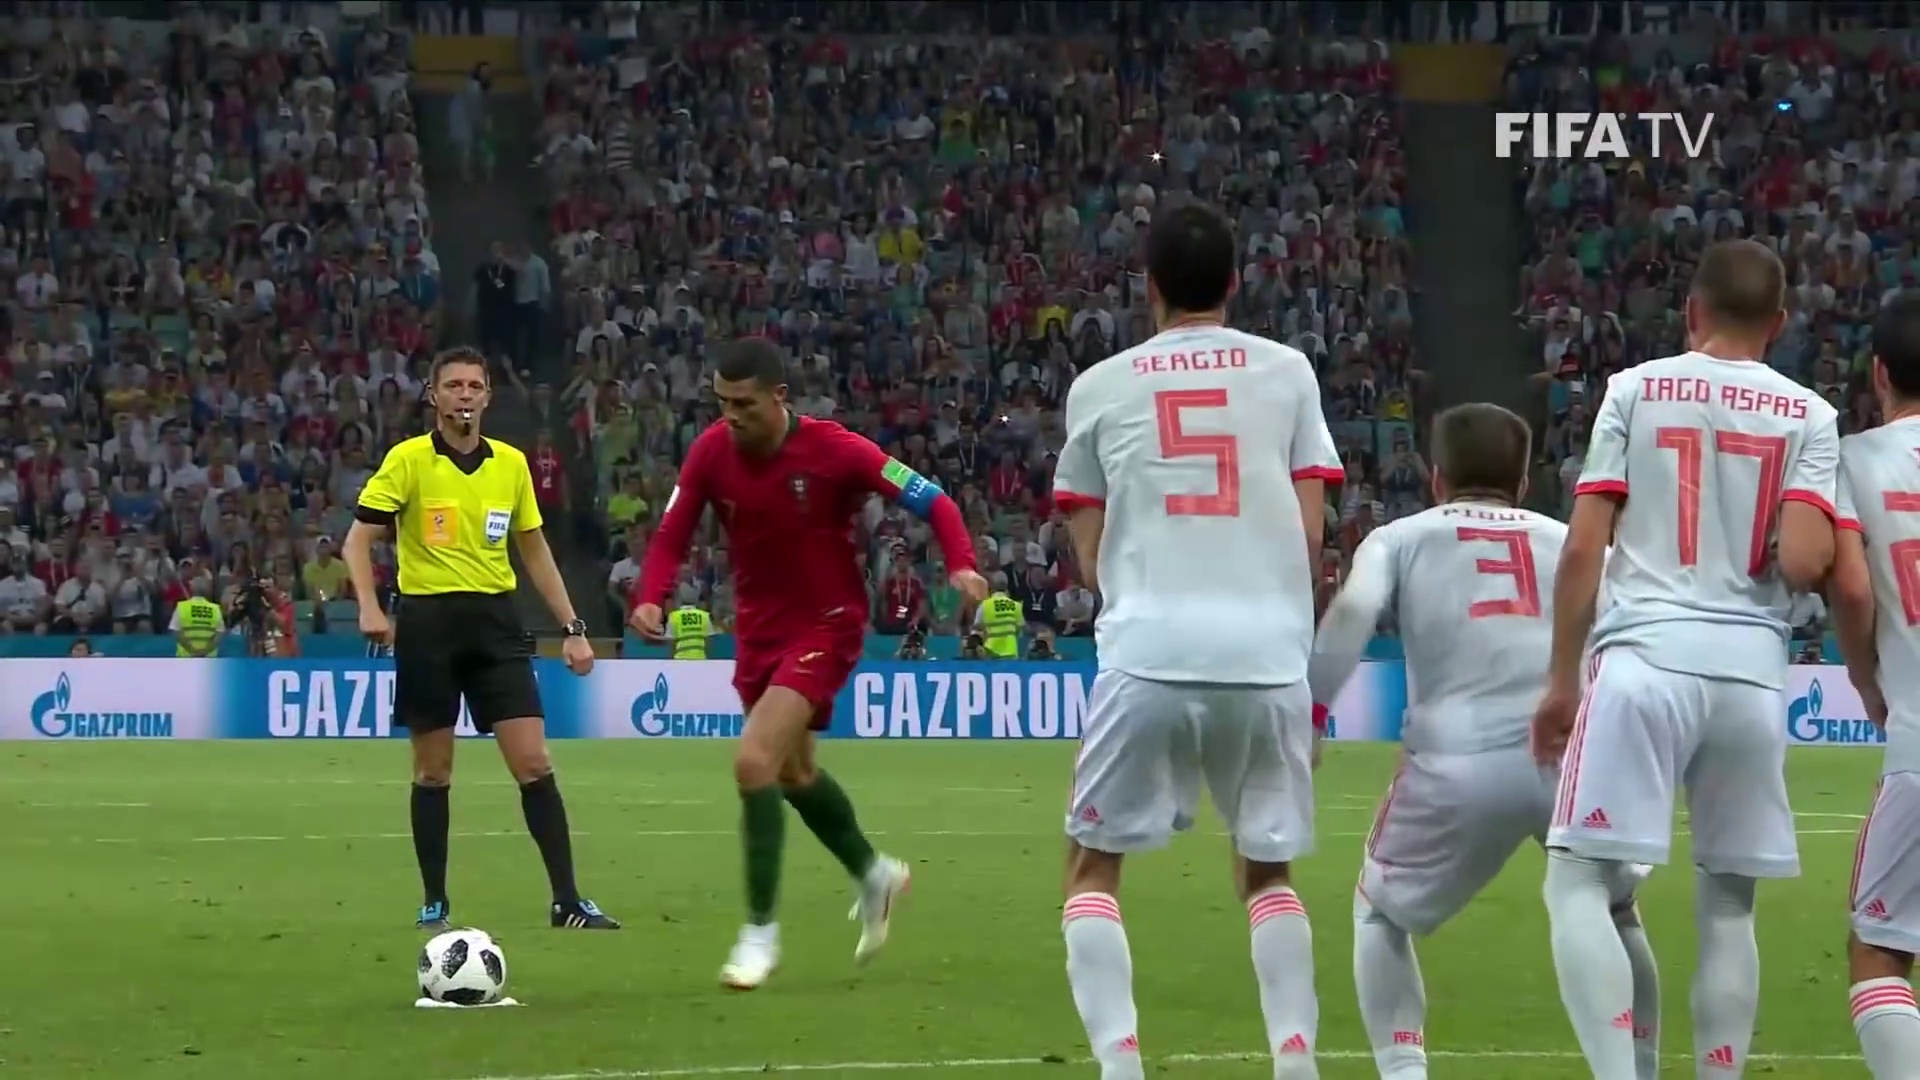ball: (418, 925, 503, 1004)
person: (1548, 237, 1835, 1080), (1056, 196, 1324, 1078), (1338, 404, 1665, 1080), (634, 341, 940, 992)
